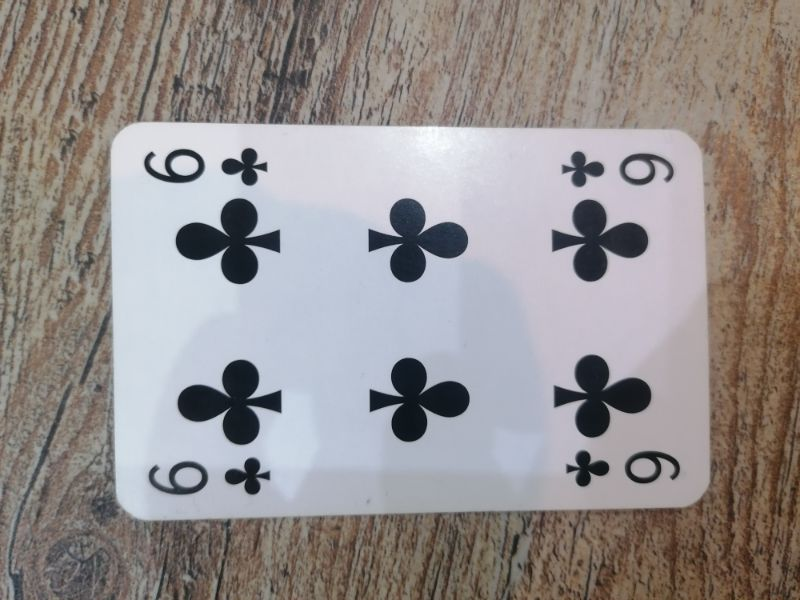6c: (141, 139, 274, 194), (555, 143, 677, 196), (559, 445, 684, 492), (143, 456, 277, 499)
